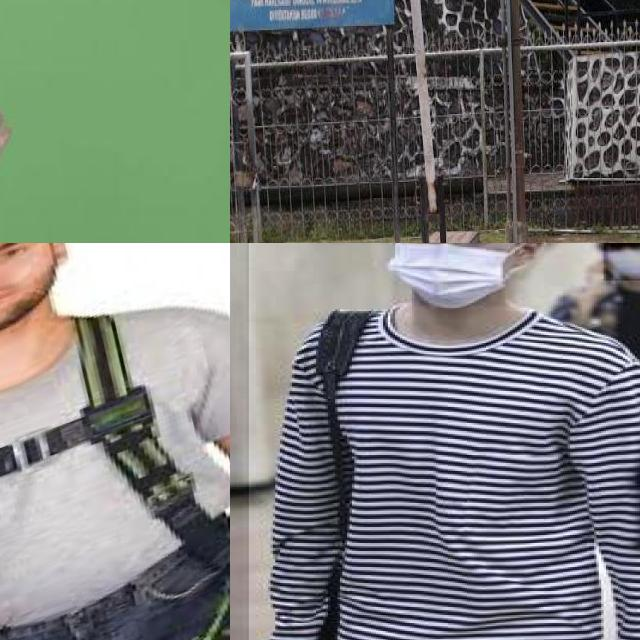Harness: (0, 318, 178, 493)
face_mask: (392, 243, 517, 307), (603, 243, 640, 282)
hand_noglove: (0, 73, 16, 176)
person: (248, 243, 640, 640)
